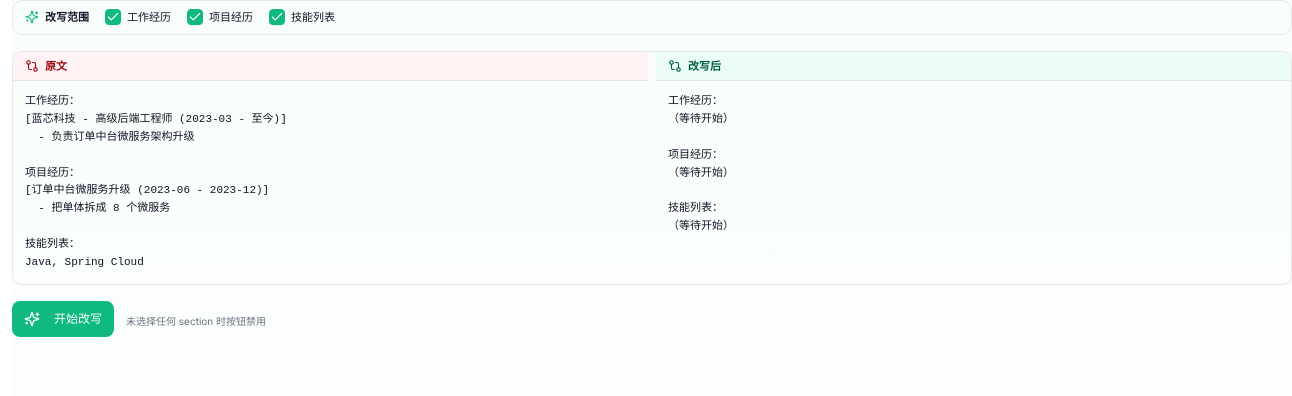
StarRewritePanel › surfaces an SSE error frame as a UI error
The image size is (1292, 396).
Click the button "开始改写".
click(63, 319)  # box [12,301,114,337]
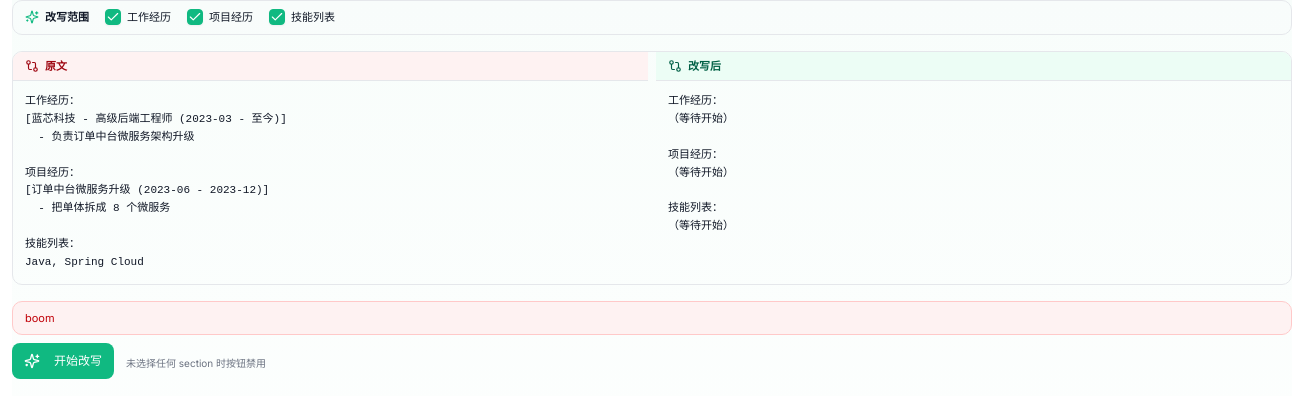
Expected: the message reads "boom", [25,311,55,325]
